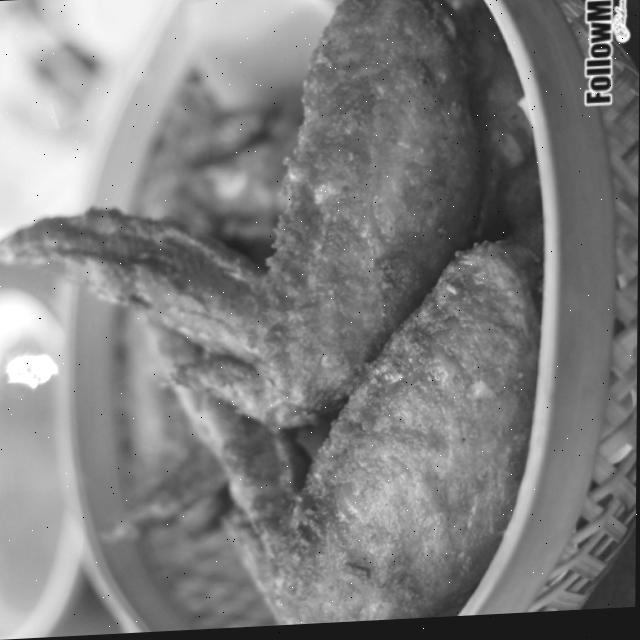鸡肉料理 含炸鸡: (19, 0, 572, 628)
